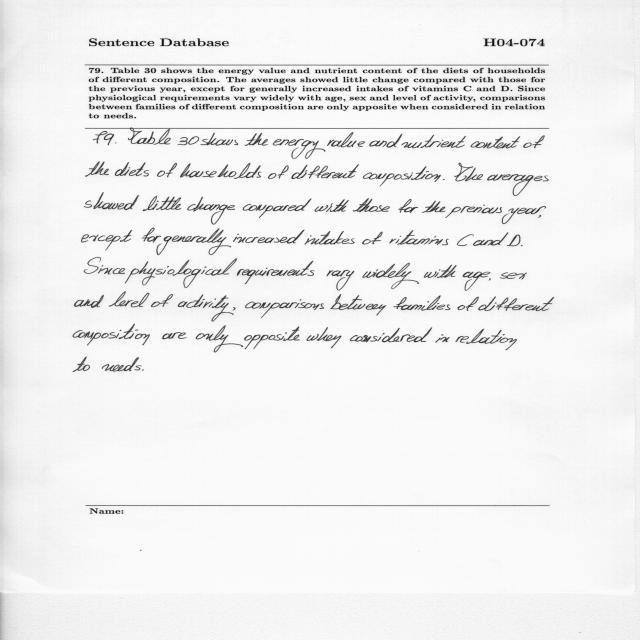word: (125, 259, 237, 289), (157, 228, 259, 255), (362, 263, 457, 289), (273, 132, 356, 159), (178, 294, 236, 322), (73, 324, 150, 345), (196, 325, 252, 353), (363, 167, 441, 187), (243, 198, 312, 218), (487, 174, 549, 196), (187, 197, 235, 225), (180, 163, 262, 179), (455, 329, 517, 350), (245, 327, 300, 350), (259, 300, 324, 319), (330, 294, 386, 316), (350, 328, 432, 343), (478, 296, 554, 311), (82, 230, 132, 251), (291, 164, 359, 179), (84, 192, 139, 210), (389, 230, 449, 245), (394, 296, 451, 311), (237, 268, 288, 284), (502, 206, 546, 224), (307, 327, 342, 348), (446, 205, 502, 218), (84, 258, 125, 275), (128, 129, 171, 145), (304, 231, 355, 244), (258, 230, 305, 244), (471, 136, 520, 149), (358, 134, 403, 148), (109, 292, 149, 307), (102, 357, 142, 372), (420, 135, 466, 148), (143, 196, 181, 211), (454, 163, 483, 182), (327, 270, 354, 290), (463, 272, 491, 291), (353, 198, 390, 212), (473, 232, 508, 246), (201, 133, 238, 146), (115, 162, 149, 176), (315, 199, 349, 212), (287, 261, 315, 276), (75, 295, 104, 308), (86, 162, 109, 177), (458, 296, 479, 311), (244, 133, 268, 146), (268, 165, 289, 179), (422, 201, 446, 213), (523, 136, 545, 149), (151, 294, 173, 307), (142, 228, 161, 243), (94, 131, 114, 145), (157, 163, 177, 177), (399, 199, 419, 213), (362, 232, 383, 245), (73, 357, 90, 372), (457, 234, 473, 246), (178, 137, 199, 146), (500, 273, 527, 280), (162, 333, 187, 340), (507, 235, 520, 246), (435, 334, 450, 343), (402, 142, 422, 148), (246, 302, 262, 309), (538, 215, 541, 218), (489, 278, 491, 281), (115, 143, 117, 144), (443, 179, 445, 180), (521, 245, 523, 246), (142, 370, 144, 371)
